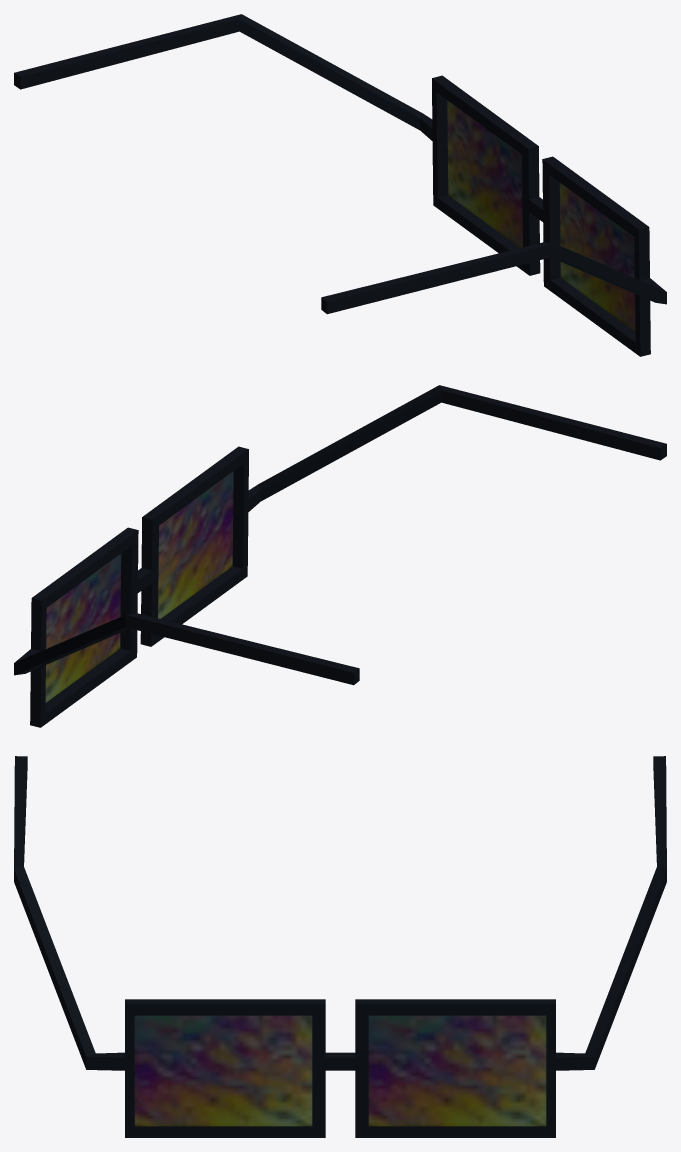
The model's file is BOXY SUNGLASSES.fbx.
The picture shows the model from 3 angles, top to bottom: view 1: azimuth 30°, elevation 25°; view 2: azimuth 150°, elevation 25°; view 3: azimuth 270°, elevation 25°; orthographic projection. The views are drawn at different scales.
Parts seen in each view (by area): view 1: BOXY_SUNGLASSES; view 2: BOXY_SUNGLASSES; view 3: BOXY_SUNGLASSES.
Boxes of the visible parts, x1,y1,x2,y2 form: BOXY_SUNGLASSES: [14, 14, 666, 356]; BOXY_SUNGLASSES: [14, 385, 666, 727]; BOXY_SUNGLASSES: [14, 756, 666, 1137].
Size of the model in its own units: 17.32 by 8.17 by 24.99.
